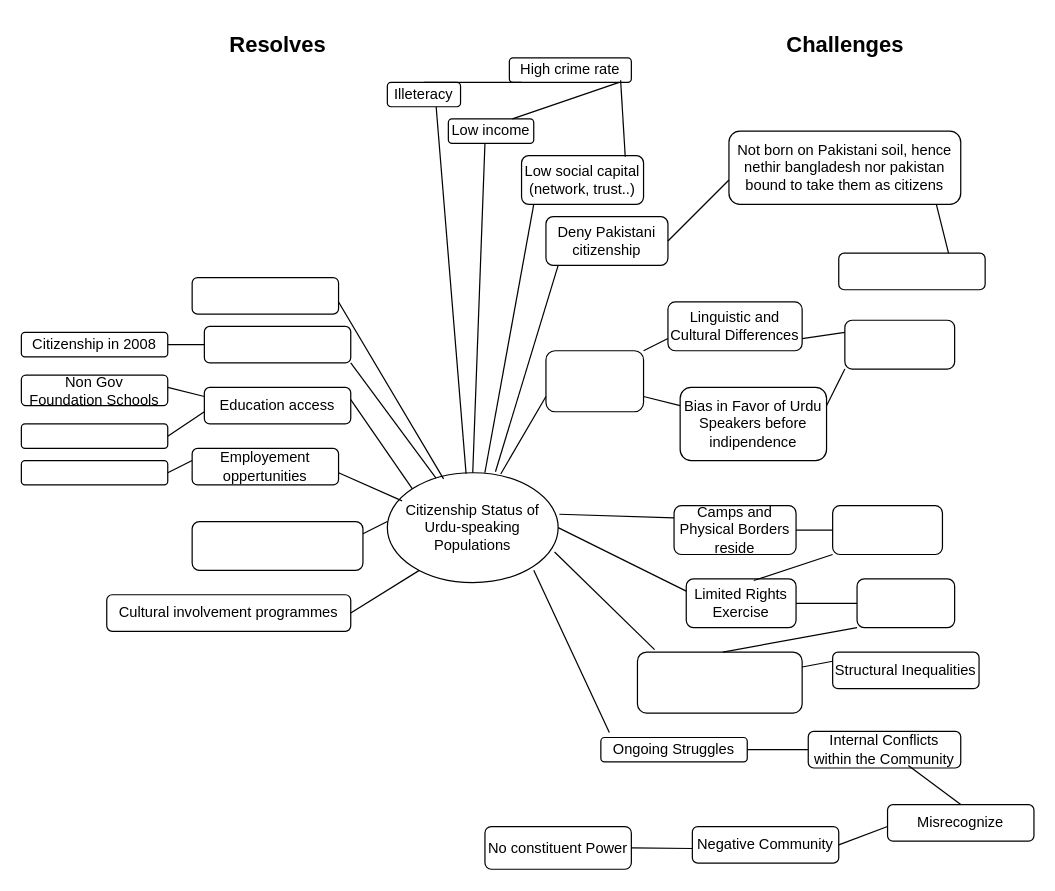
Image size: 1055x891. Some labels were removed from this diagram. The shapes that lost their labels are listed below. From the top down, each one's centre as x and y in pixels, then its label:
(911,271): Not any citizen untill 2008
(265,295): projects to rehabilitate
(277,344): Legal recognition
(899,344): Exclusion from Inclusion
(594,381): Challenges in Bangladesh
(94,435): Gov schools enroll
(94,472): Access to Gov jobs
(277,545): Government recognition for their better life
(886,529): Stranded in Bangladesh
(905,603): Passive Citizenship
(719,682): Granting of Citizenship yet Challenges in Active Rights Exercise
